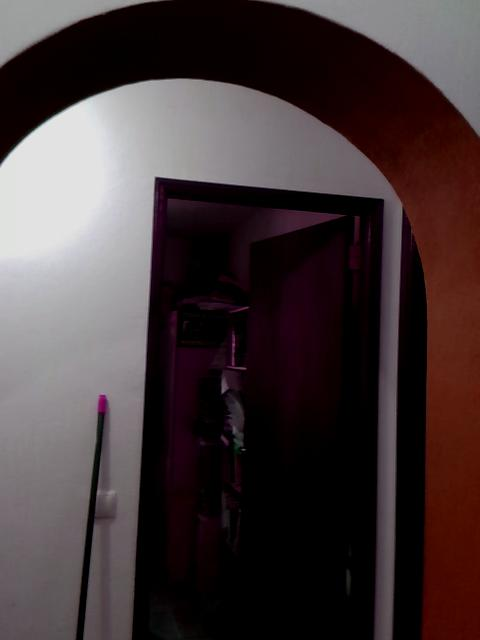open_door: (130, 174, 384, 639)
